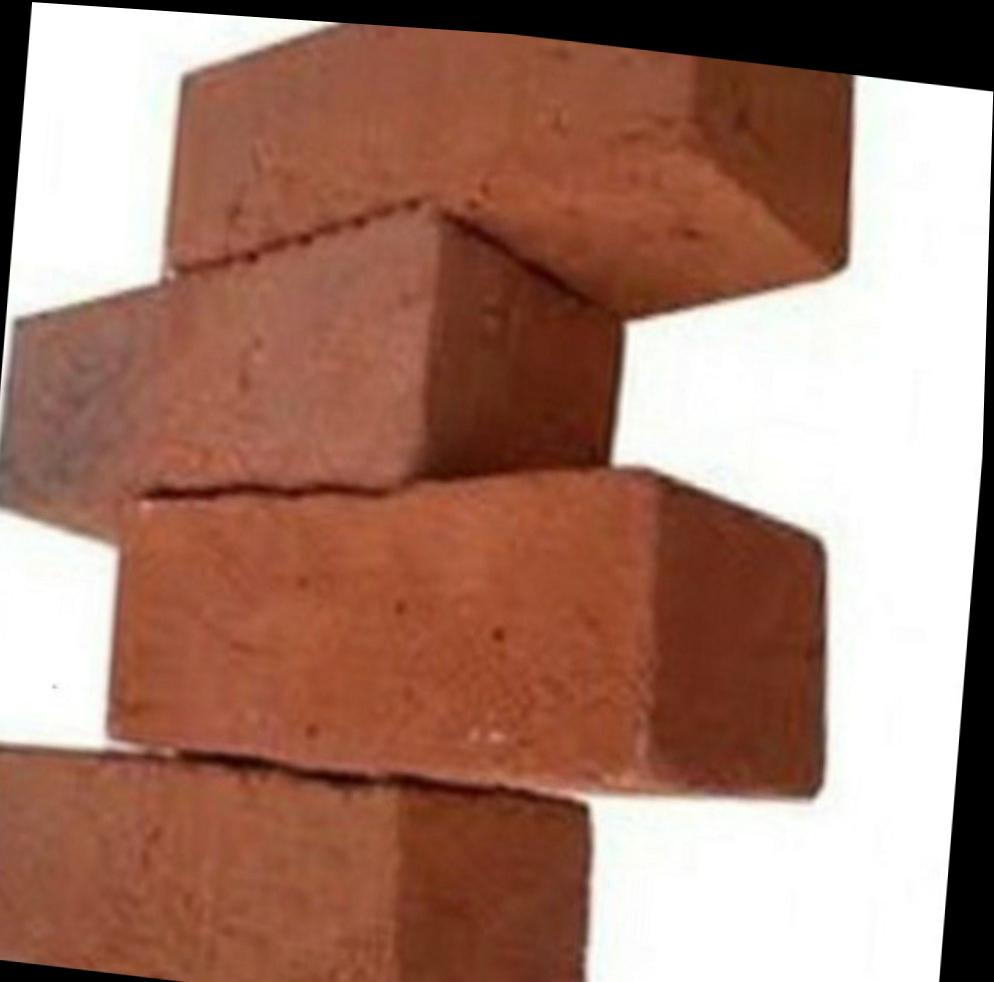brick: (98, 408, 671, 808), (0, 149, 459, 559), (164, 12, 699, 335), (0, 738, 411, 982)
